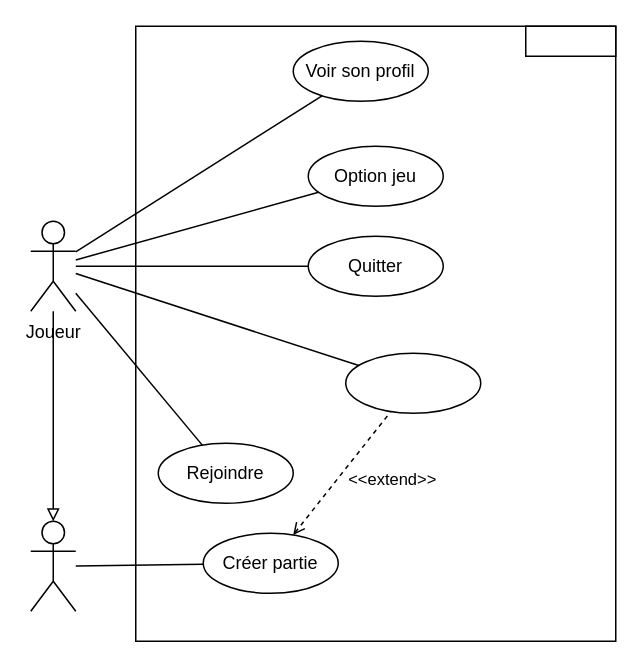
The diagram is 642 pixels wide and 669 high, and some of its shapes have lost their labels. Here are the shapes that lost their labels. From the top down, the centre of each, then its label:
At [570,40]: "Système".
At [412,382]: "Jouer partie".
At [52,565]: "Hôte".
